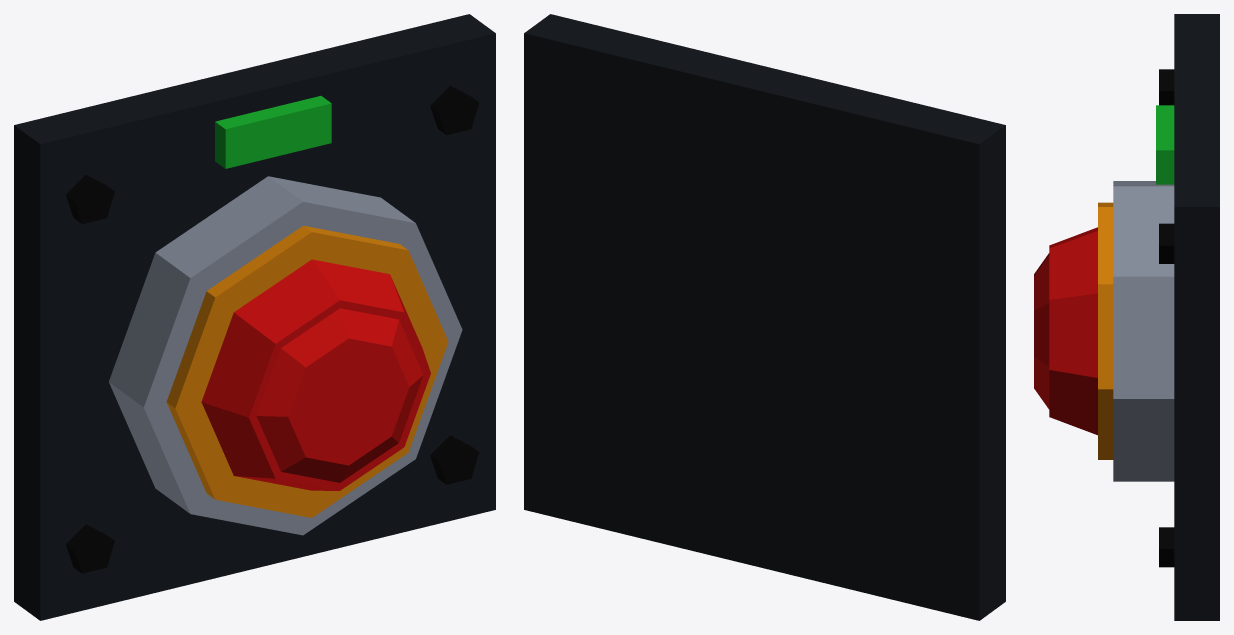
The model's file is SM_Button_Anim.glb.
The picture shows the model from 3 angles, left to right: view 1: azimuth 30°, elevation 25°; view 2: azimuth 150°, elevation 25°; view 3: azimuth 270°, elevation 25°; orthographic projection. The views are drawn at different scales.
Visible parts, largest first — view 1: Button_Base, Button_Cap; view 2: Button_Base; view 3: Button_Cap, Button_Base.
Part boxes in pixels (x1,y1,x2,y2): Button_Base: (14,14,495,620); Button_Cap: (109,176,462,535); Button_Base: (524,14,1005,620); Button_Cap: (1034,181,1174,481); Button_Base: (1156,14,1219,620).
Size of the model in its own units: 0.3 by 0.3 by 0.122.
